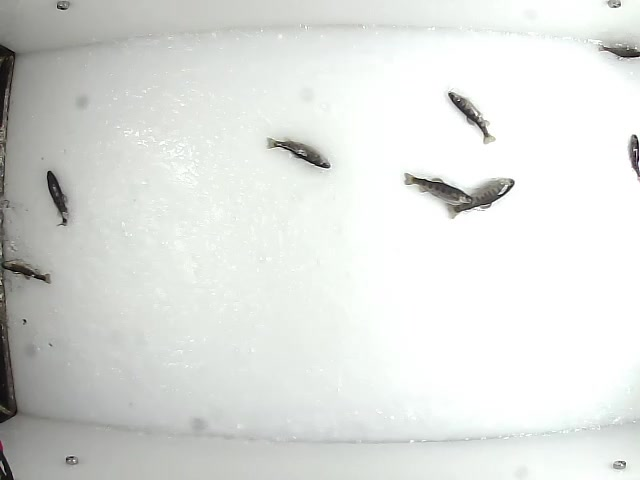fish: (444, 175, 519, 219), (446, 87, 497, 147), (401, 170, 476, 206), (264, 135, 333, 170), (44, 168, 72, 228), (1, 258, 55, 284), (593, 39, 640, 61), (627, 134, 640, 183)
